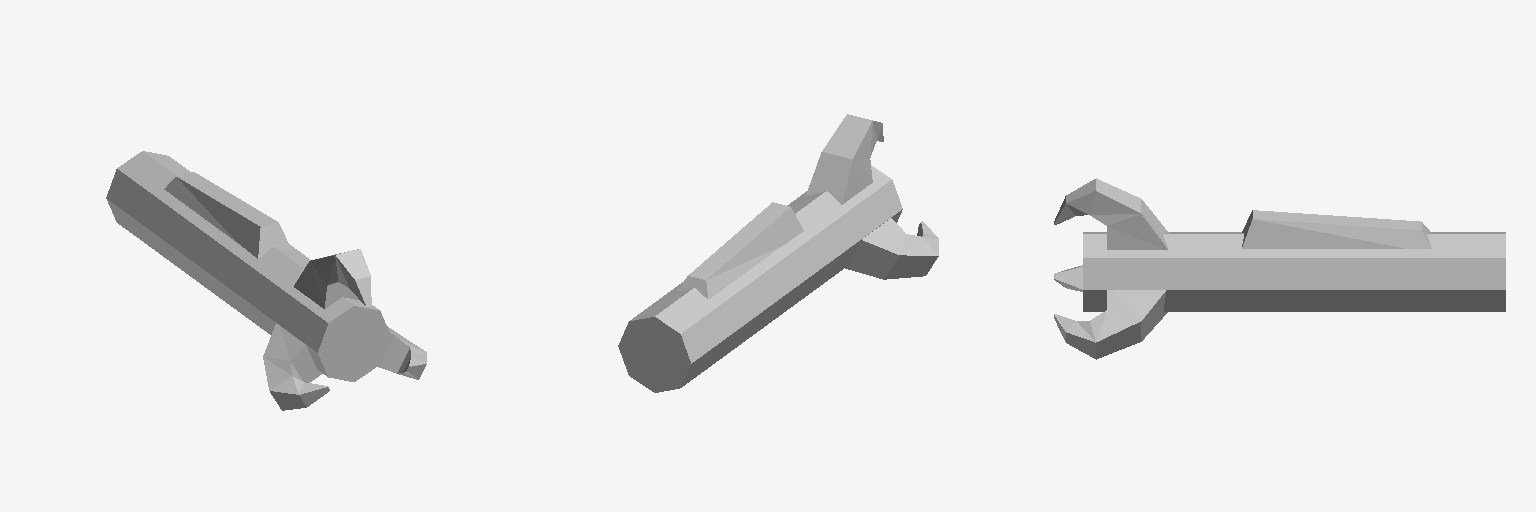
File: plasma_cannon.obj
The picture shows the model from 3 angles: view 1: azimuth 30°, elevation 25°; view 2: azimuth 150°, elevation 25°; view 3: azimuth 270°, elevation 25°; orthographic projection.
Visible parts, largest first — view 1: plasmaCannon; view 2: plasmaCannon; view 3: plasmaCannon.
Boxes of the visible parts, x1=… form: plasmaCannon: x1=106, y1=151, x2=426, y2=410; plasmaCannon: x1=618, y1=114, x2=938, y2=392; plasmaCannon: x1=1054, y1=178, x2=1505, y2=359.
Size of the model in its own units: 0.4303 by 0.3726 by 1.07.